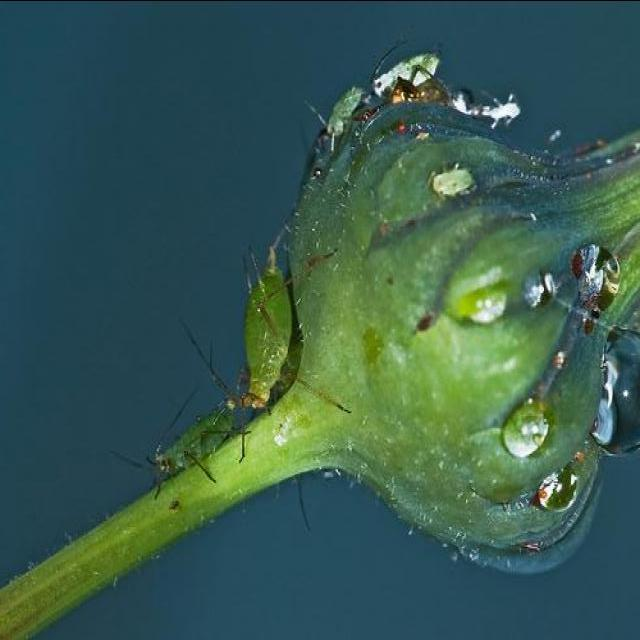aphid: (223, 252, 309, 419), (140, 396, 232, 486), (368, 41, 437, 97), (325, 73, 367, 154)
